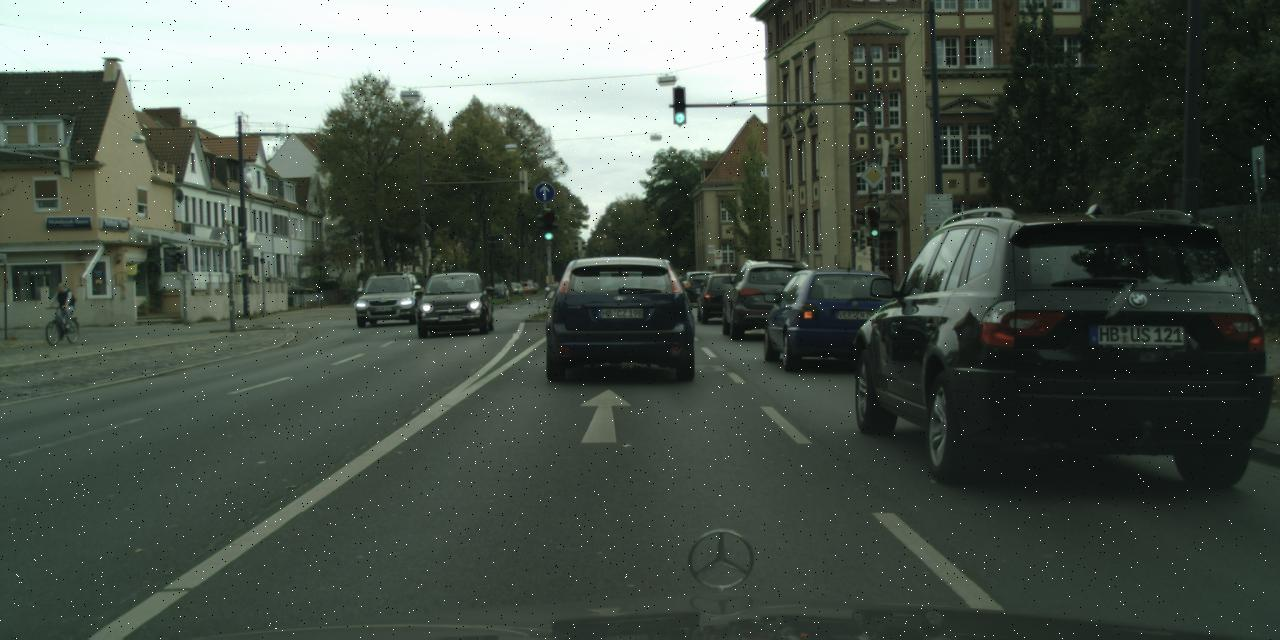ped: (52, 282, 72, 333)
